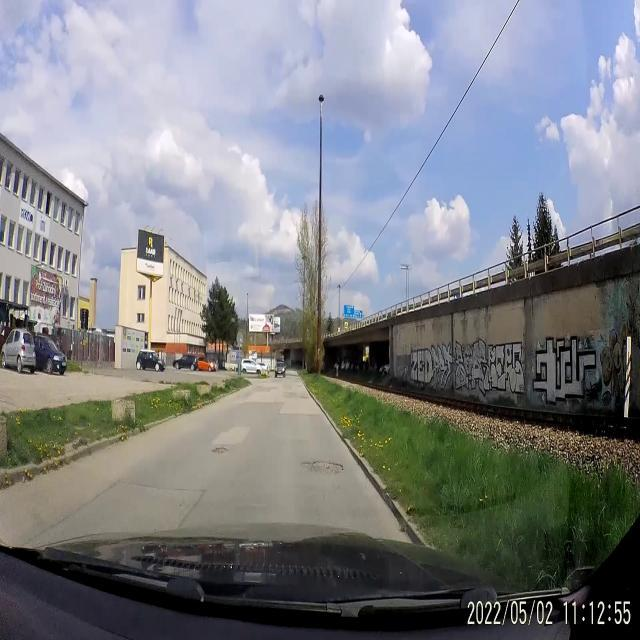Pothole: (300, 451, 347, 482), (208, 436, 228, 458)
